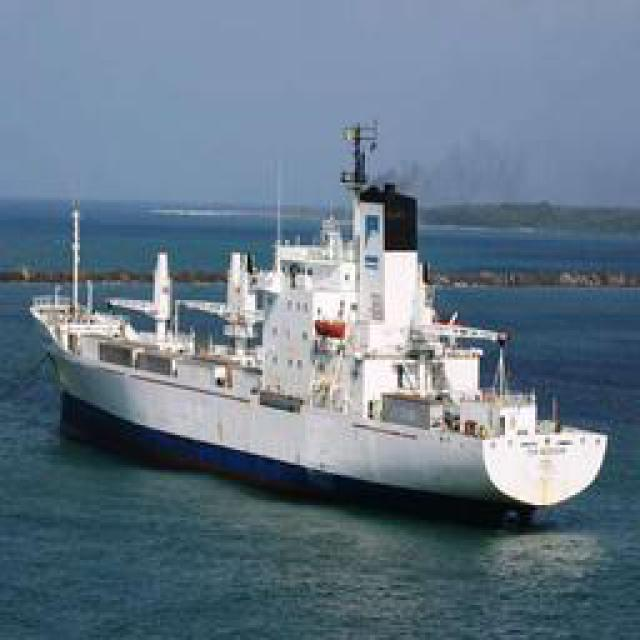Ship: (30, 135, 618, 528)
